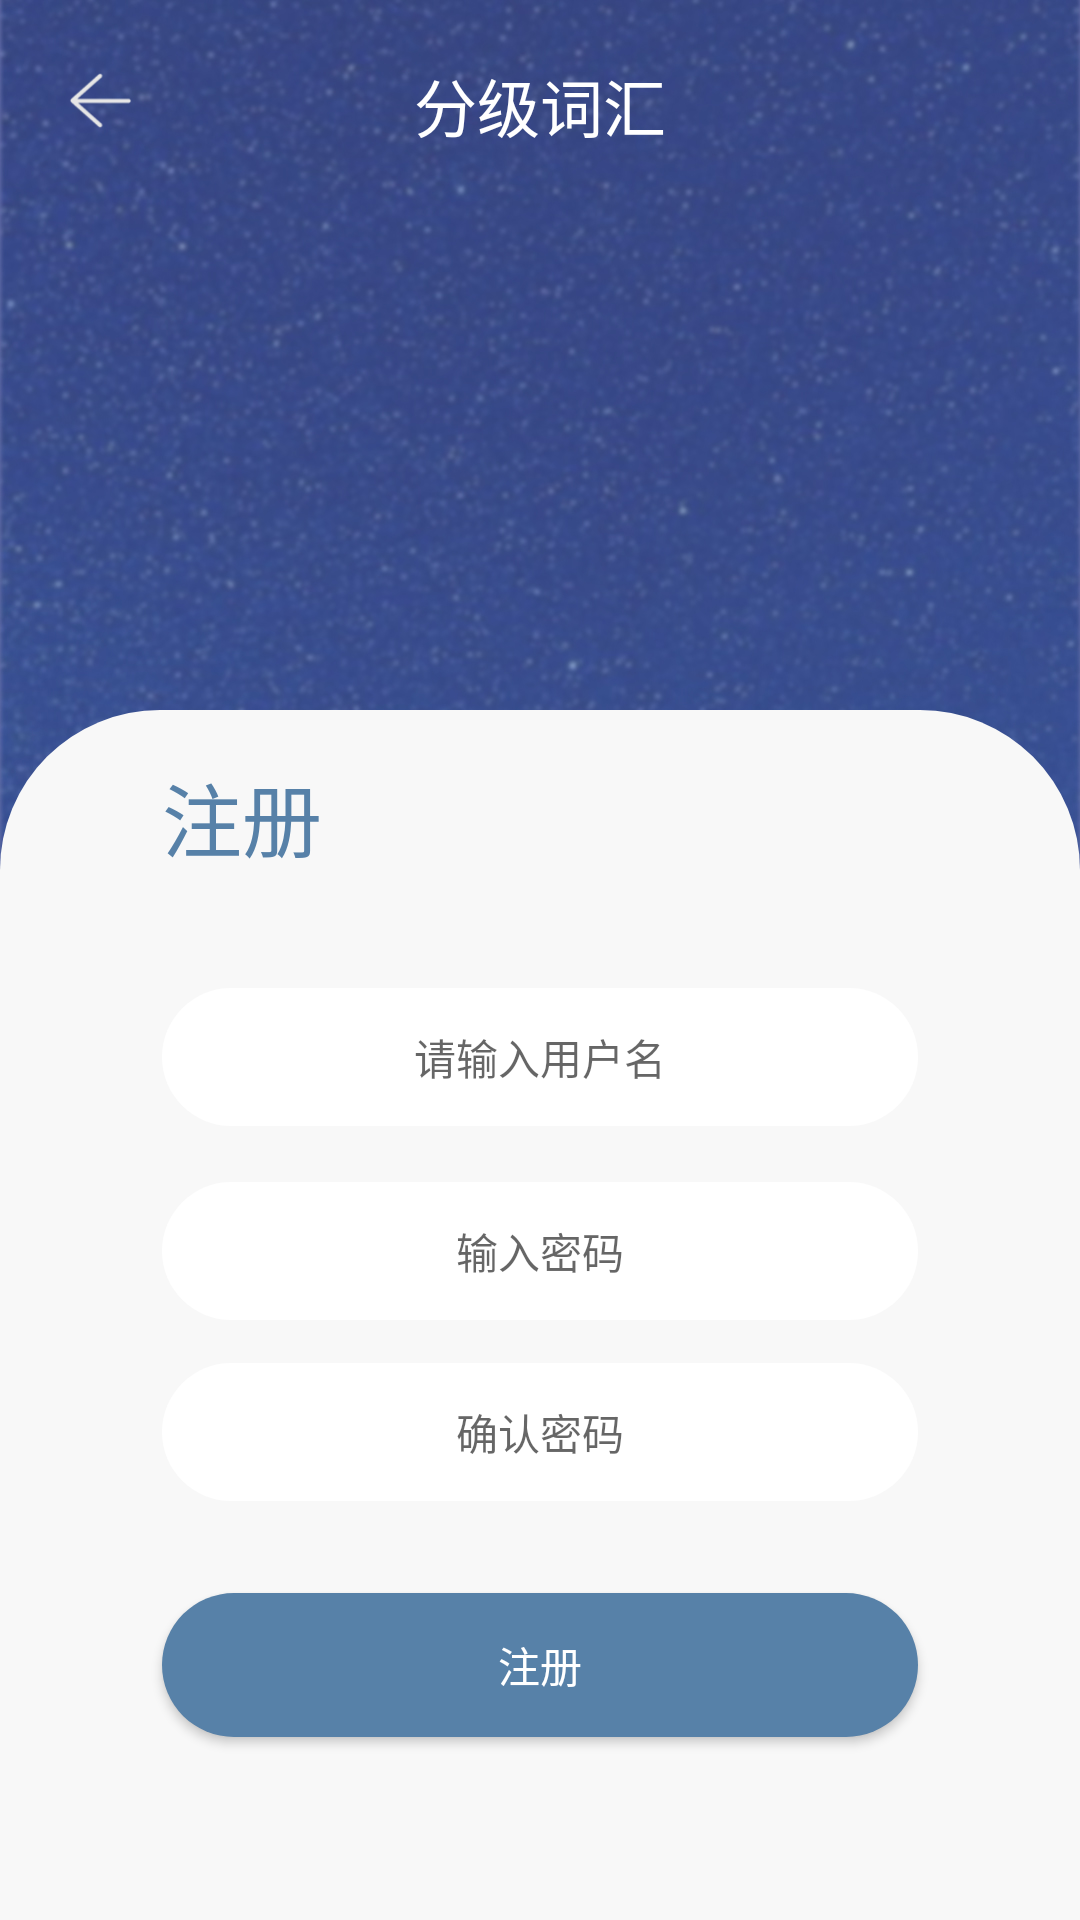

Screen size 1080x1920. Icon name, then its center in pixels as (x,y):
back: (100,100)
